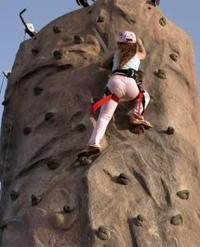person: (78, 32, 152, 156)
